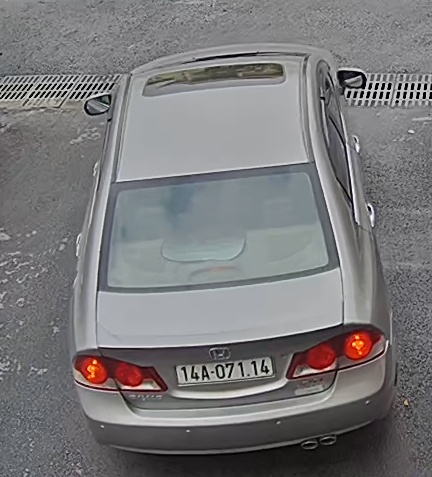vehicle plate: (169, 352, 271, 391)
